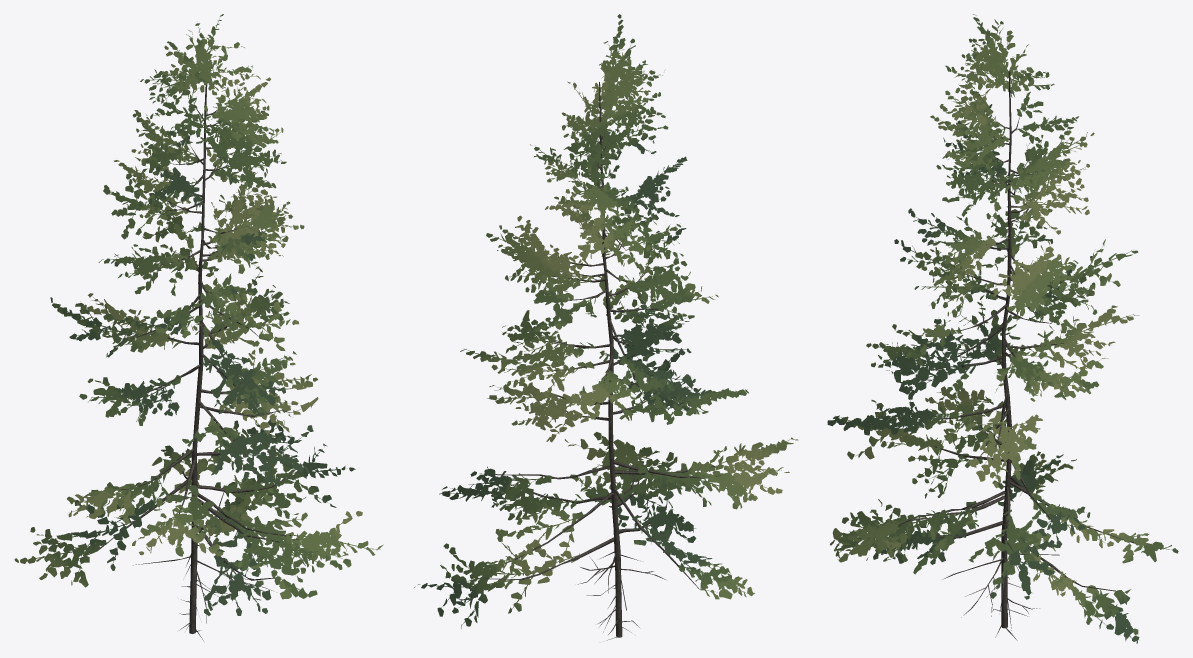
File: grounded-conifer-weathered.glb
3 views of the same model, side by side, from view 1: azimuth 30°, elevation 25°; view 2: azimuth 150°, elevation 25°; view 3: azimuth 270°, elevation 25° (orthographic). The views are drawn at different scales.
Parts seen in each view (by area): view 1: grounded-conifer-weathered runtime mesh; view 2: grounded-conifer-weathered runtime mesh; view 3: grounded-conifer-weathered runtime mesh.
Part boxes in pixels (x1=…): grounded-conifer-weathered runtime mesh: x1=14, y1=14, x2=383, y2=640; grounded-conifer-weathered runtime mesh: x1=414, y1=14, x2=798, y2=640; grounded-conifer-weathered runtime mesh: x1=827, y1=14, x2=1178, y2=643.
Bounding box in the file's own units: 3.07 × 5.59 × 2.83.
3 materials, 2 textured.
